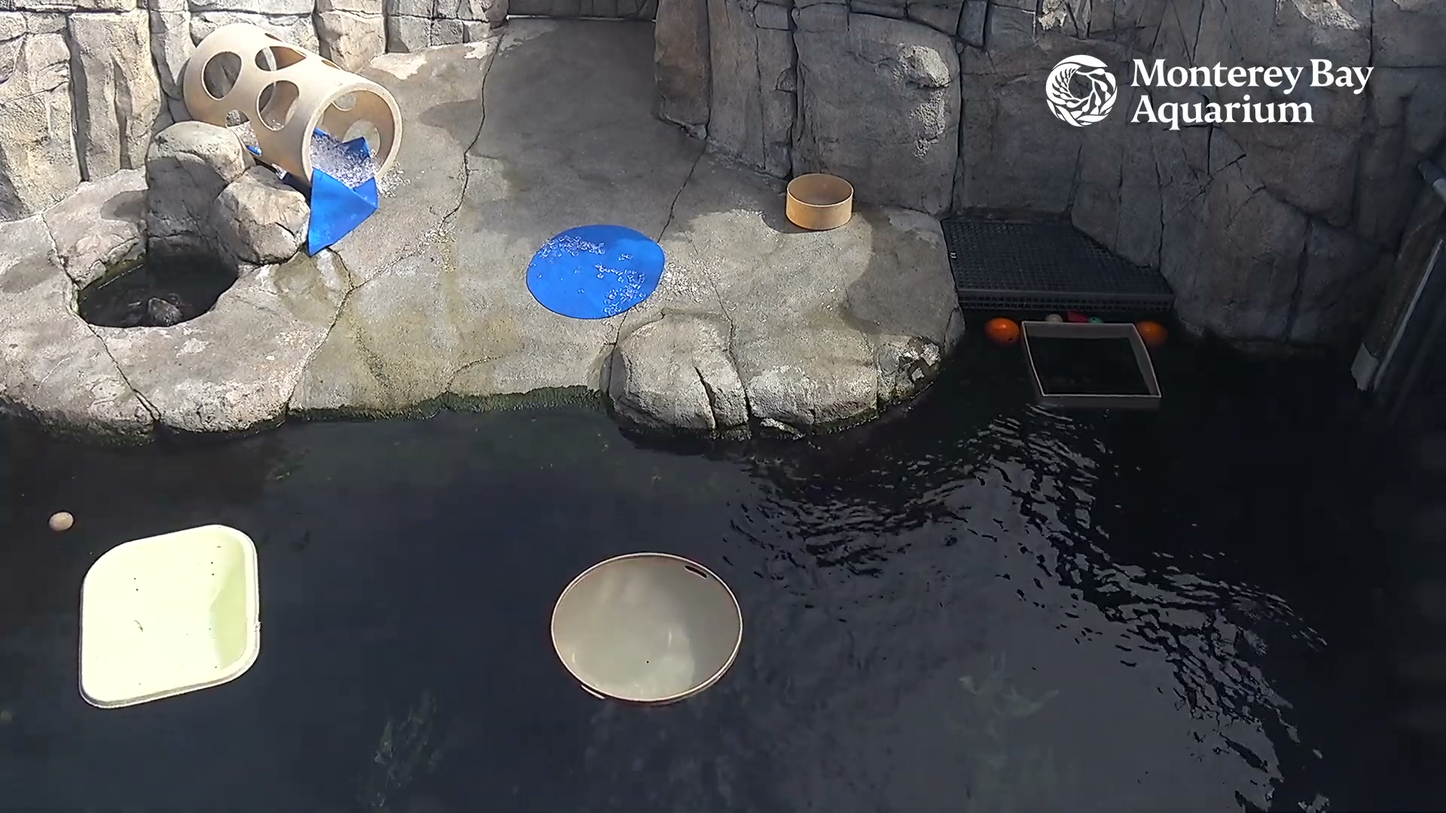Southern Sea Otter: (117, 280, 201, 329)
